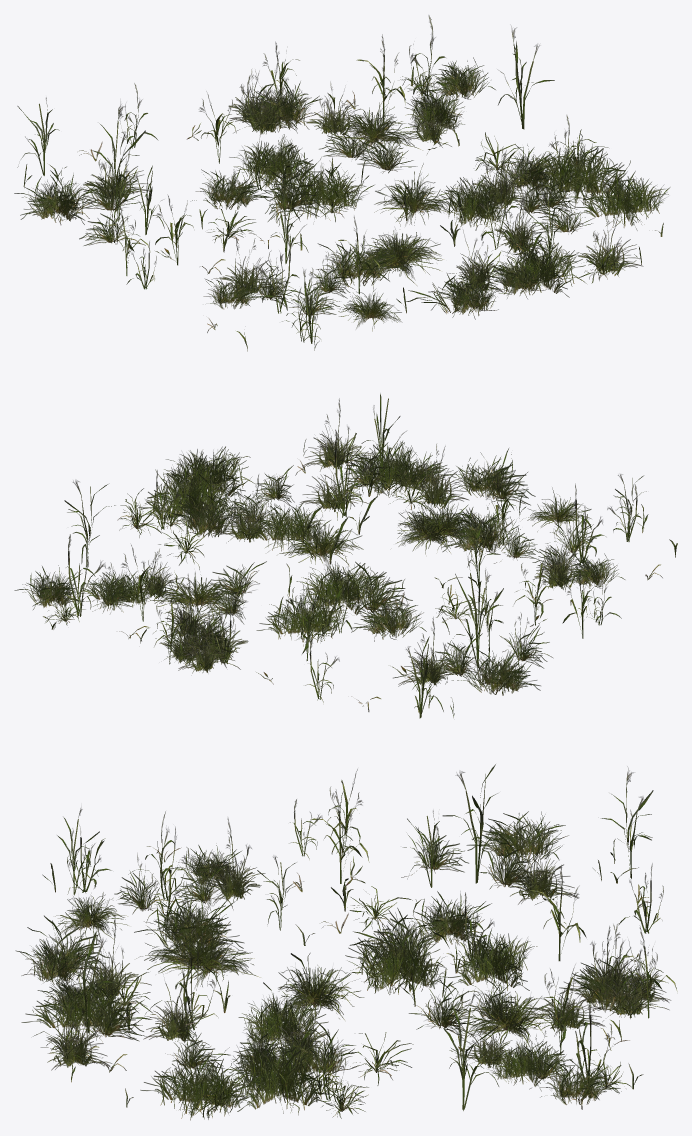
File: grass_patch.glb
3 renders of one model, top to bottom at view 1: azimuth 30°, elevation 25°; view 2: azimuth 150°, elevation 25°; view 3: azimuth 270°, elevation 25°, orthographic. The views are drawn at different scales.
Size of the model in its own units: 1.98 by 0.4359 by 1.88.
1 material, 1 textured.
